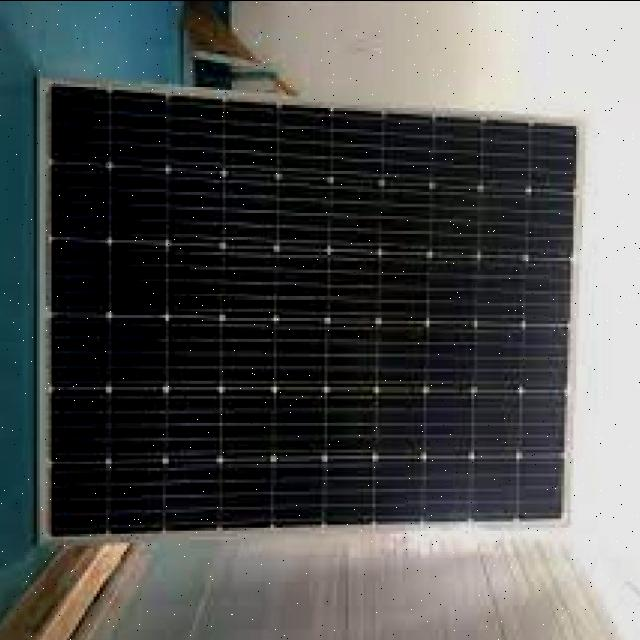Normal Solar Panel: (40, 76, 577, 542)
